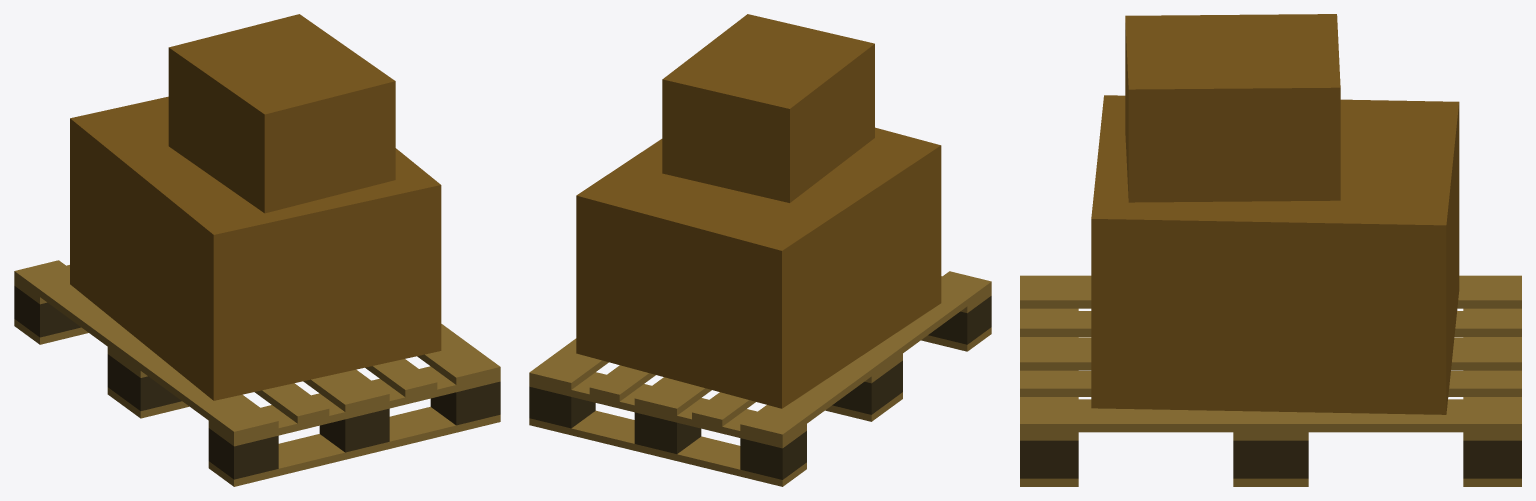
Rendered from palletAndBoxes.FBX.
3 views of the same model, side by side, from view 1: azimuth 30°, elevation 25°; view 2: azimuth 150°, elevation 25°; view 3: azimuth 270°, elevation 25° (orthographic). The views are drawn at different scales.
Parts seen in each view (by area): view 1: Box016, Box017, bigplank, Box014, Box002, Box005, bigplank001, bigplank002, Box011, Box009, Box006, Box004 (+4 smaller); view 2: Box016, Box017, bigplank, Box015, Box001, Box004, bigplank001, Box012, Box008, Box006, bigplank002, Box005 (+4 smaller); view 3: Box016, Box017, bigplank001, bigplank002, bigplank, smolplank, smolplank001, Box007, Box008, Box009, Box002, Box001 (+2 smaller).
Part boxes in pixels (left/top/right/bottom): Box016: left=70, top=96, right=441, bottom=400; Box017: left=168, top=14, right=395, bottom=213; bigplank: left=14, top=260, right=278, bottom=438; Box014: left=208, top=407, right=500, bottom=486; Box002: left=208, top=366, right=500, bottom=446; Box005: left=208, top=428, right=278, bottom=479; bigplank001: left=417, top=324, right=500, bottom=384; bigplank002: left=303, top=369, right=389, bottom=411; Box011: left=319, top=408, right=389, bottom=452; Box009: left=430, top=381, right=500, bottom=425; Box006: left=107, top=354, right=181, bottom=410; Box004: left=14, top=286, right=80, bottom=337; Box016: left=576, top=127, right=941, bottom=408; Box017: left=662, top=14, right=874, bottom=202; bigplank: left=740, top=271, right=991, bottom=441; Box015: left=529, top=410, right=806, bottom=486; Box001: left=529, top=372, right=806, bottom=448; Box004: left=740, top=431, right=806, bottom=479; bigplank001: left=529, top=338, right=608, bottom=389; Box012: left=634, top=412, right=701, bottom=453; Box008: left=529, top=386, right=595, bottom=428; Box006: left=832, top=360, right=902, bottom=414; bigplank002: left=634, top=377, right=711, bottom=415; Box005: left=928, top=296, right=991, bottom=344; Box016: left=1091, top=95, right=1459, bottom=414; Box017: left=1125, top=14, right=1340, bottom=202; bigplank001: left=1020, top=399, right=1521, bottom=432; bigplank002: left=1020, top=337, right=1521, bottom=370; bigplank: left=1020, top=275, right=1521, bottom=308; smolplank: left=1020, top=371, right=1521, bottom=396; smolplank001: left=1020, top=311, right=1521, bottom=336; Box007: left=1233, top=440, right=1308, bottom=478; Box008: left=1463, top=440, right=1521, bottom=478; Box009: left=1020, top=440, right=1078, bottom=478; Box002: left=1020, top=308, right=1078, bottom=440; Box001: left=1463, top=308, right=1521, bottom=440.
Size of the model in its own units: 84 by 96.41 by 120.
